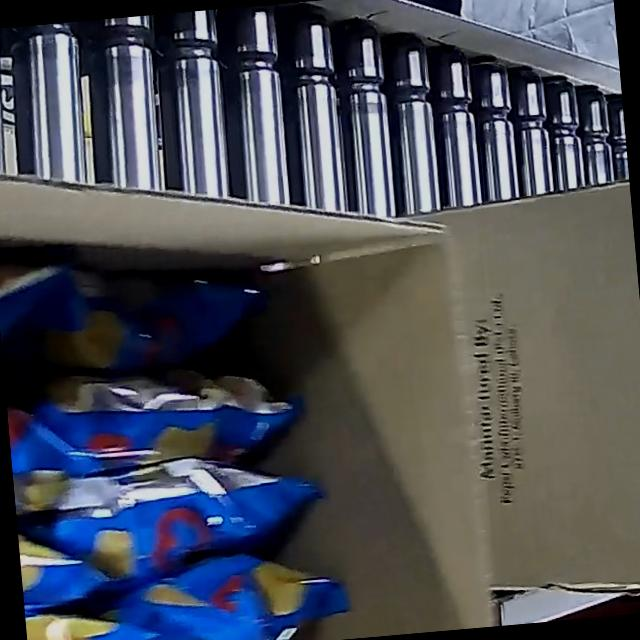paprika: (0, 219, 353, 640)
